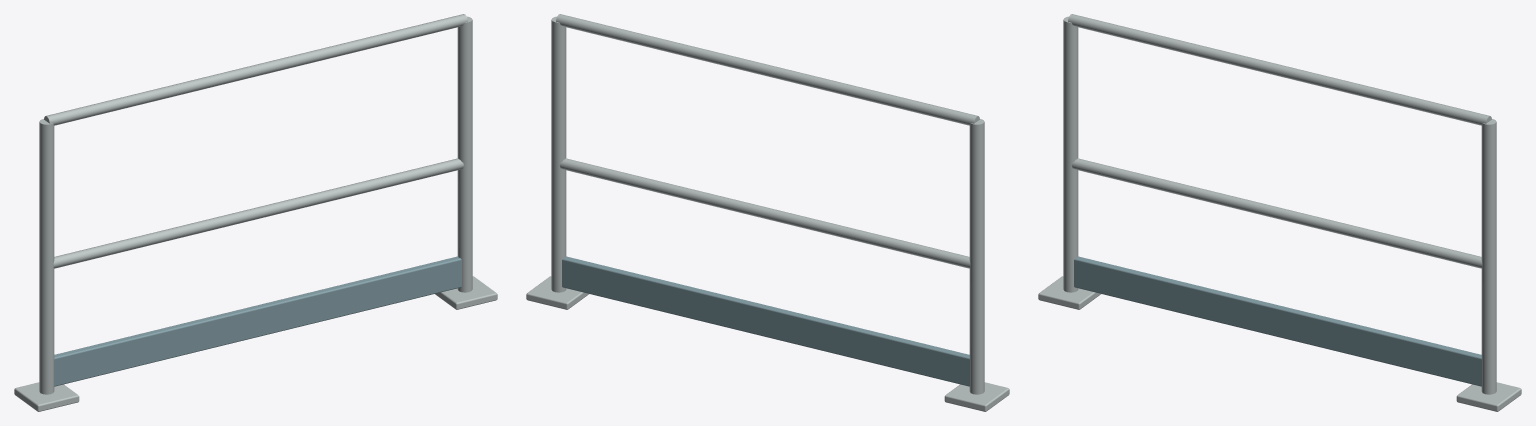
File: abandoned-tidal-model-testing-hall-observation-railing-7656a31b__32376.glb
The picture shows the model from 3 angles, left to right: view 1: azimuth 30°, elevation 25°; view 2: azimuth 150°, elevation 25°; view 3: azimuth 330°, elevation 25°; orthographic projection.
Visible parts, largest first — view 1: observation-railing; view 2: observation-railing; view 3: observation-railing.
Part boxes in pixels (<box>): observation-railing: <box>14,14,497,411</box>; observation-railing: <box>526,14,1009,411</box>; observation-railing: <box>1038,14,1521,411</box>.
Size of the model in its own units: 1.65 by 0.9679 by 0.1501.
